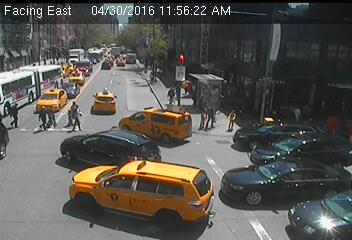neg: (28, 78, 42, 98), (13, 79, 24, 93), (30, 63, 40, 77)
pos: (220, 106, 245, 139), (3, 98, 26, 128)
